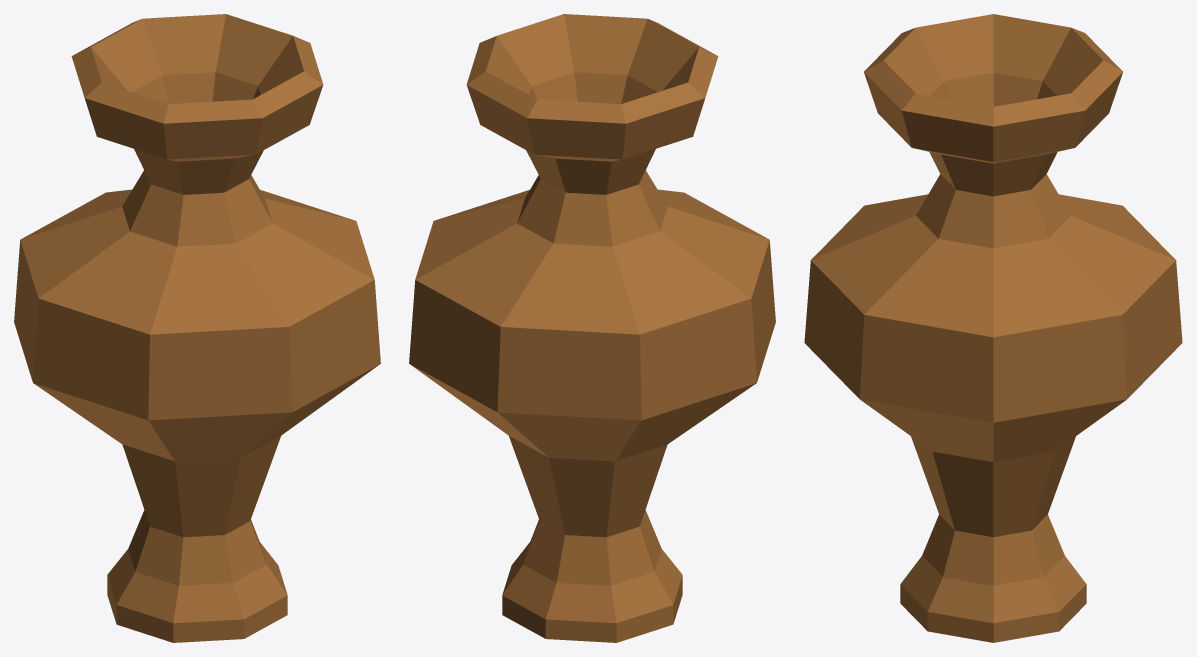
The model's file is Pot_5.fbx.
3 views of the same model, side by side, from view 1: azimuth 30°, elevation 25°; view 2: azimuth 150°, elevation 25°; view 3: azimuth 270°, elevation 25° (orthographic).
Visible parts, largest first — view 1: Pot_5; view 2: Pot_5; view 3: Pot_5.
Part boxes in pixels (x1,y1,x2,y2): Pot_5: (14,14,380,642); Pot_5: (409,14,775,642); Pot_5: (804,14,1182,642).
Size of the model in its own units: 29.61 by 46.94 by 29.61.
